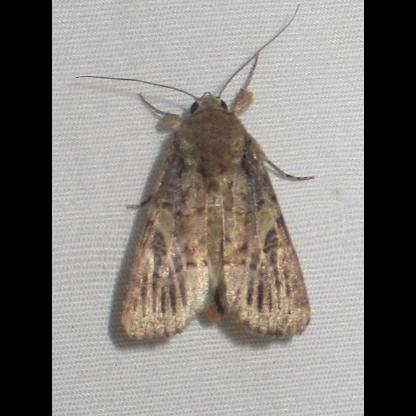Fall Armyworm Moth: (74, 1, 318, 346)
